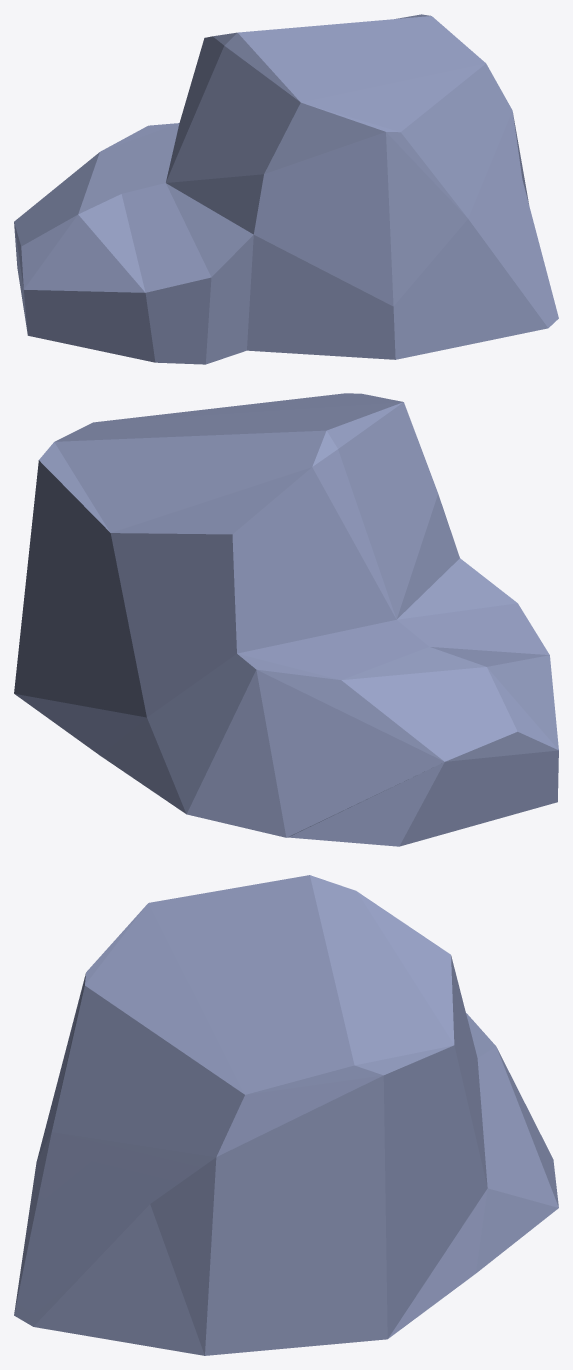
File: Rock_8.fbx
3 renders of one model, top to bottom at view 1: azimuth 30°, elevation 25°; view 2: azimuth 150°, elevation 25°; view 3: azimuth 270°, elevation 25°, orthographic. The views are drawn at different scales.
Parts seen in each view (by area): view 1: Rock_8; view 2: Rock_8; view 3: Rock_8.
Part boxes in pixels (left/top/right/bottom): Rock_8: left=14, top=14, right=558, bottom=364; Rock_8: left=14, top=393, right=558, bottom=846; Rock_8: left=14, top=875, right=558, bottom=1355.
Bounding box in the file's own units: 2.85 × 1.52 × 2.31.
